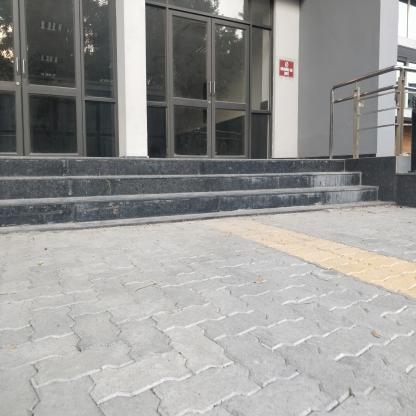stairs: (13, 159, 344, 229)
